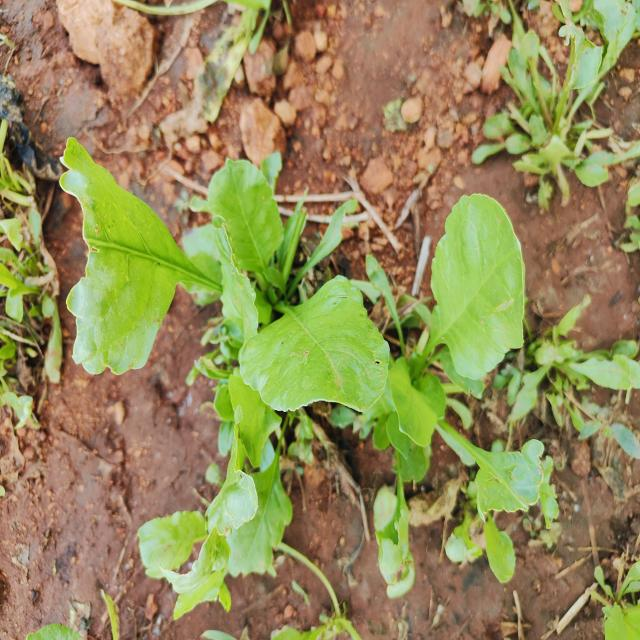half-leaf: (41, 135, 252, 391)
leaves: (390, 160, 544, 496), (209, 258, 411, 439), (427, 403, 560, 567), (216, 437, 331, 616), (178, 146, 299, 312), (95, 469, 229, 613)
